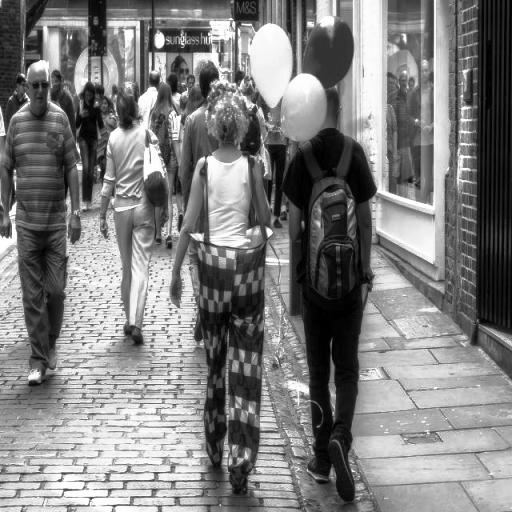balloon: (300, 17, 355, 83), (251, 24, 293, 108), (282, 76, 328, 141)
